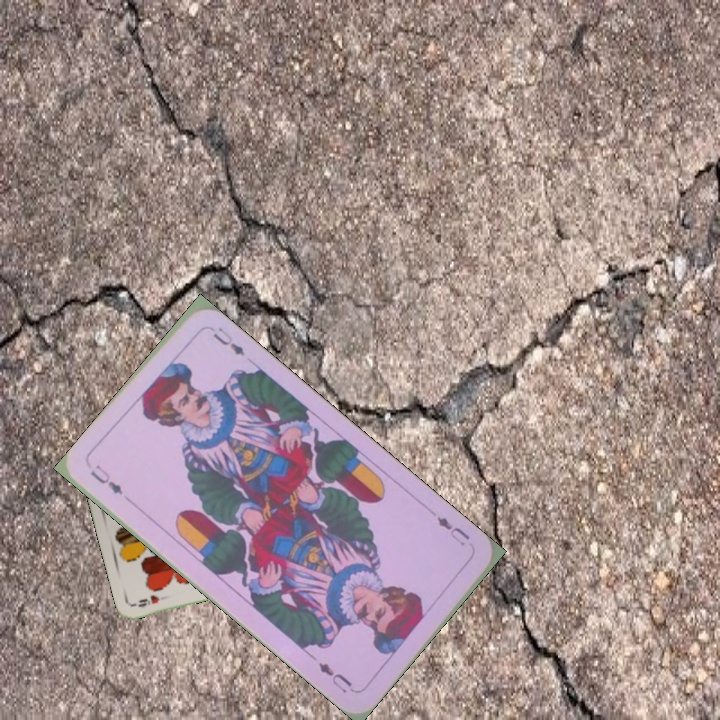EU: (432, 512, 473, 549), (86, 461, 126, 498)
H9: (130, 591, 162, 610)
